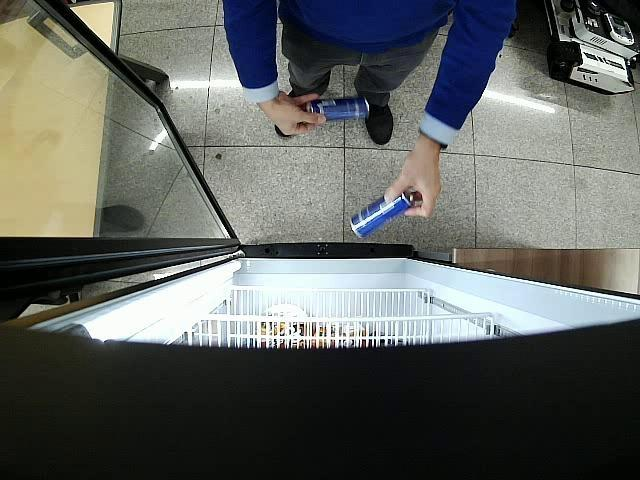16_hot6: (350, 188, 422, 238), (306, 97, 369, 121)
